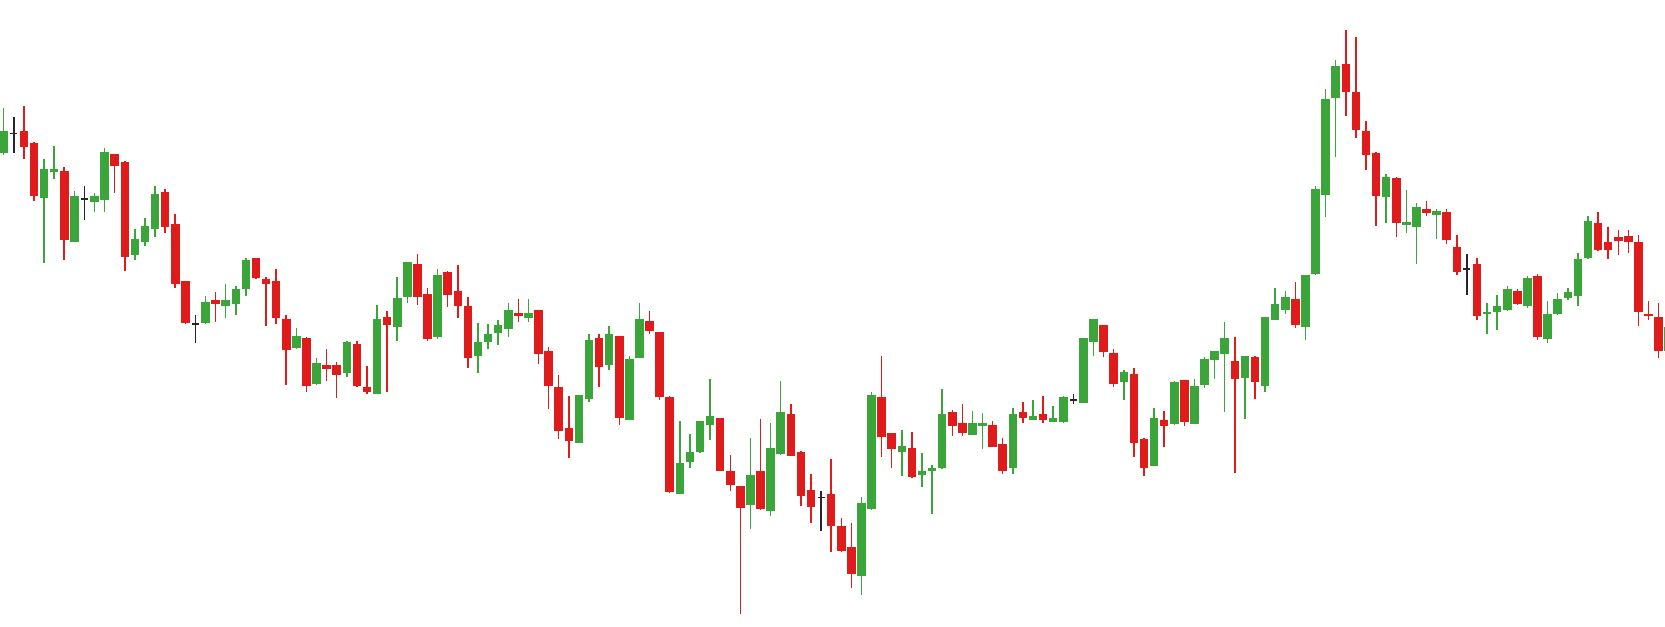buy: (660, 433, 757, 618), (995, 385, 1160, 479)
sell: (241, 248, 423, 348)
